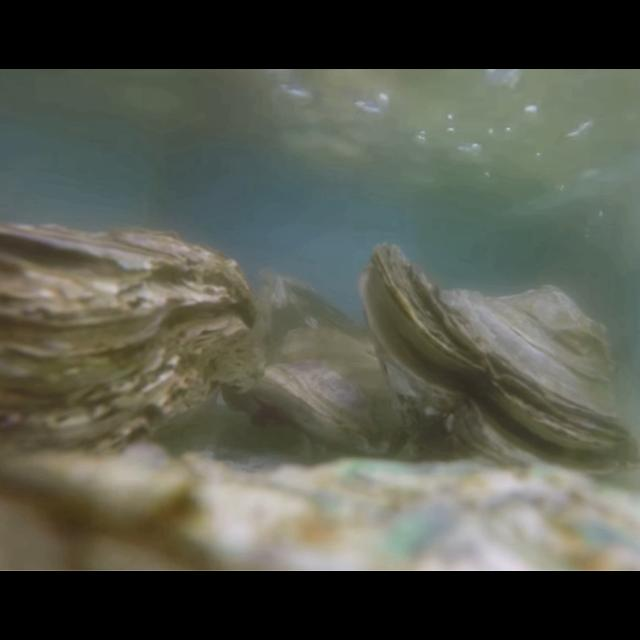Oyster-Closed: (0, 222, 256, 480)
Oyster-Indeterminate: (0, 444, 640, 572), (260, 327, 422, 465), (266, 275, 370, 361)
Oyster-Open: (358, 242, 640, 490)
